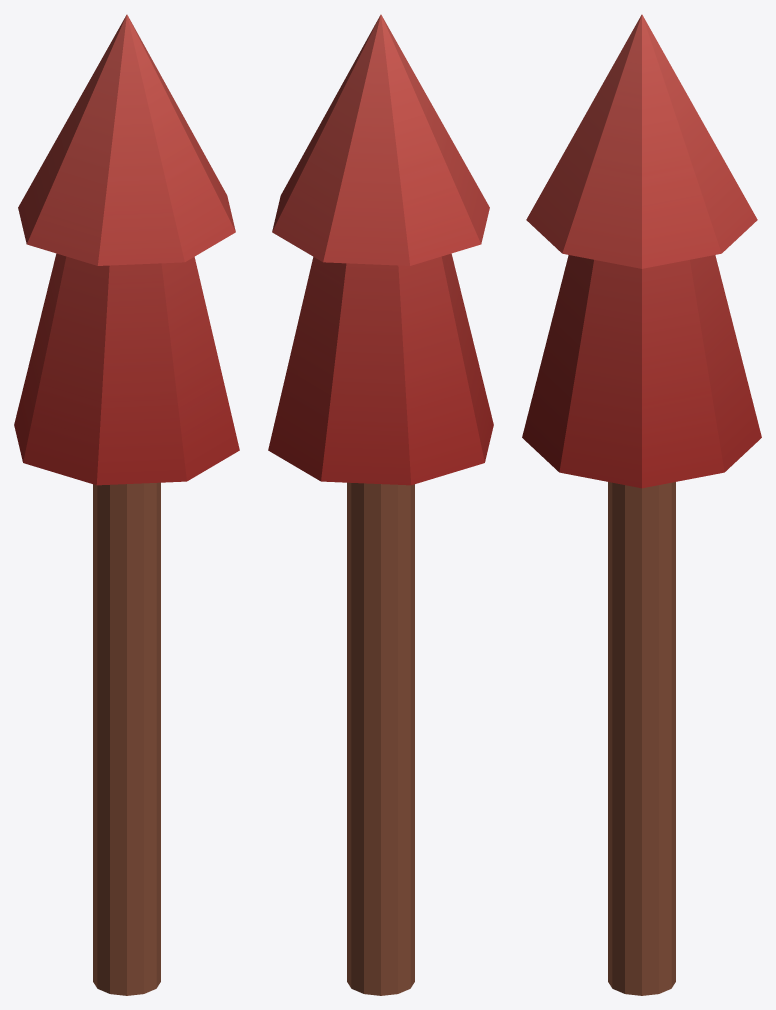
File: Tree_21_gradient_red.fbx
3 renders of one model, left to right at view 1: azimuth 30°, elevation 25°; view 2: azimuth 150°, elevation 25°; view 3: azimuth 270°, elevation 25°, orthographic.
Visible parts, largest first — view 1: Tree_21_gradient_red; view 2: Tree_21_gradient_red; view 3: Tree_21_gradient_red.
Boxes of the visible parts, left/top/right/bottom form: Tree_21_gradient_red: left=14, top=14, right=239, bottom=995; Tree_21_gradient_red: left=268, top=14, right=493, bottom=995; Tree_21_gradient_red: left=522, top=14, right=761, bottom=995.
Size of the model in its own units: 77.92 by 347 by 77.92.
